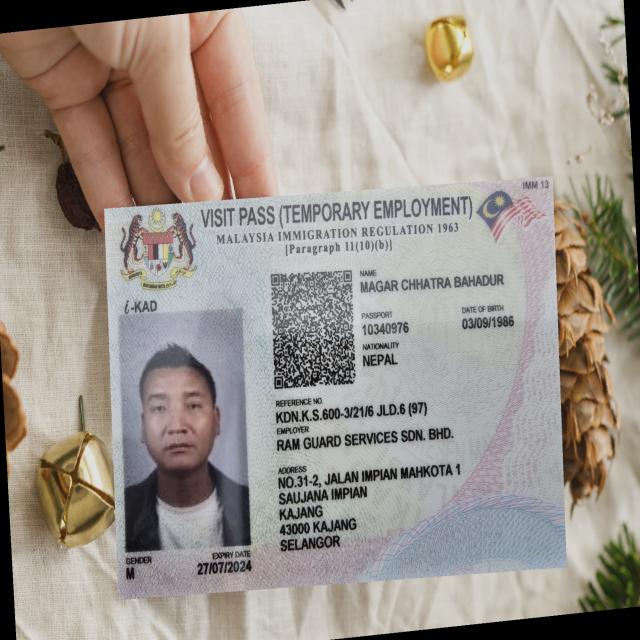ikad-temp: (103, 176, 567, 598)
